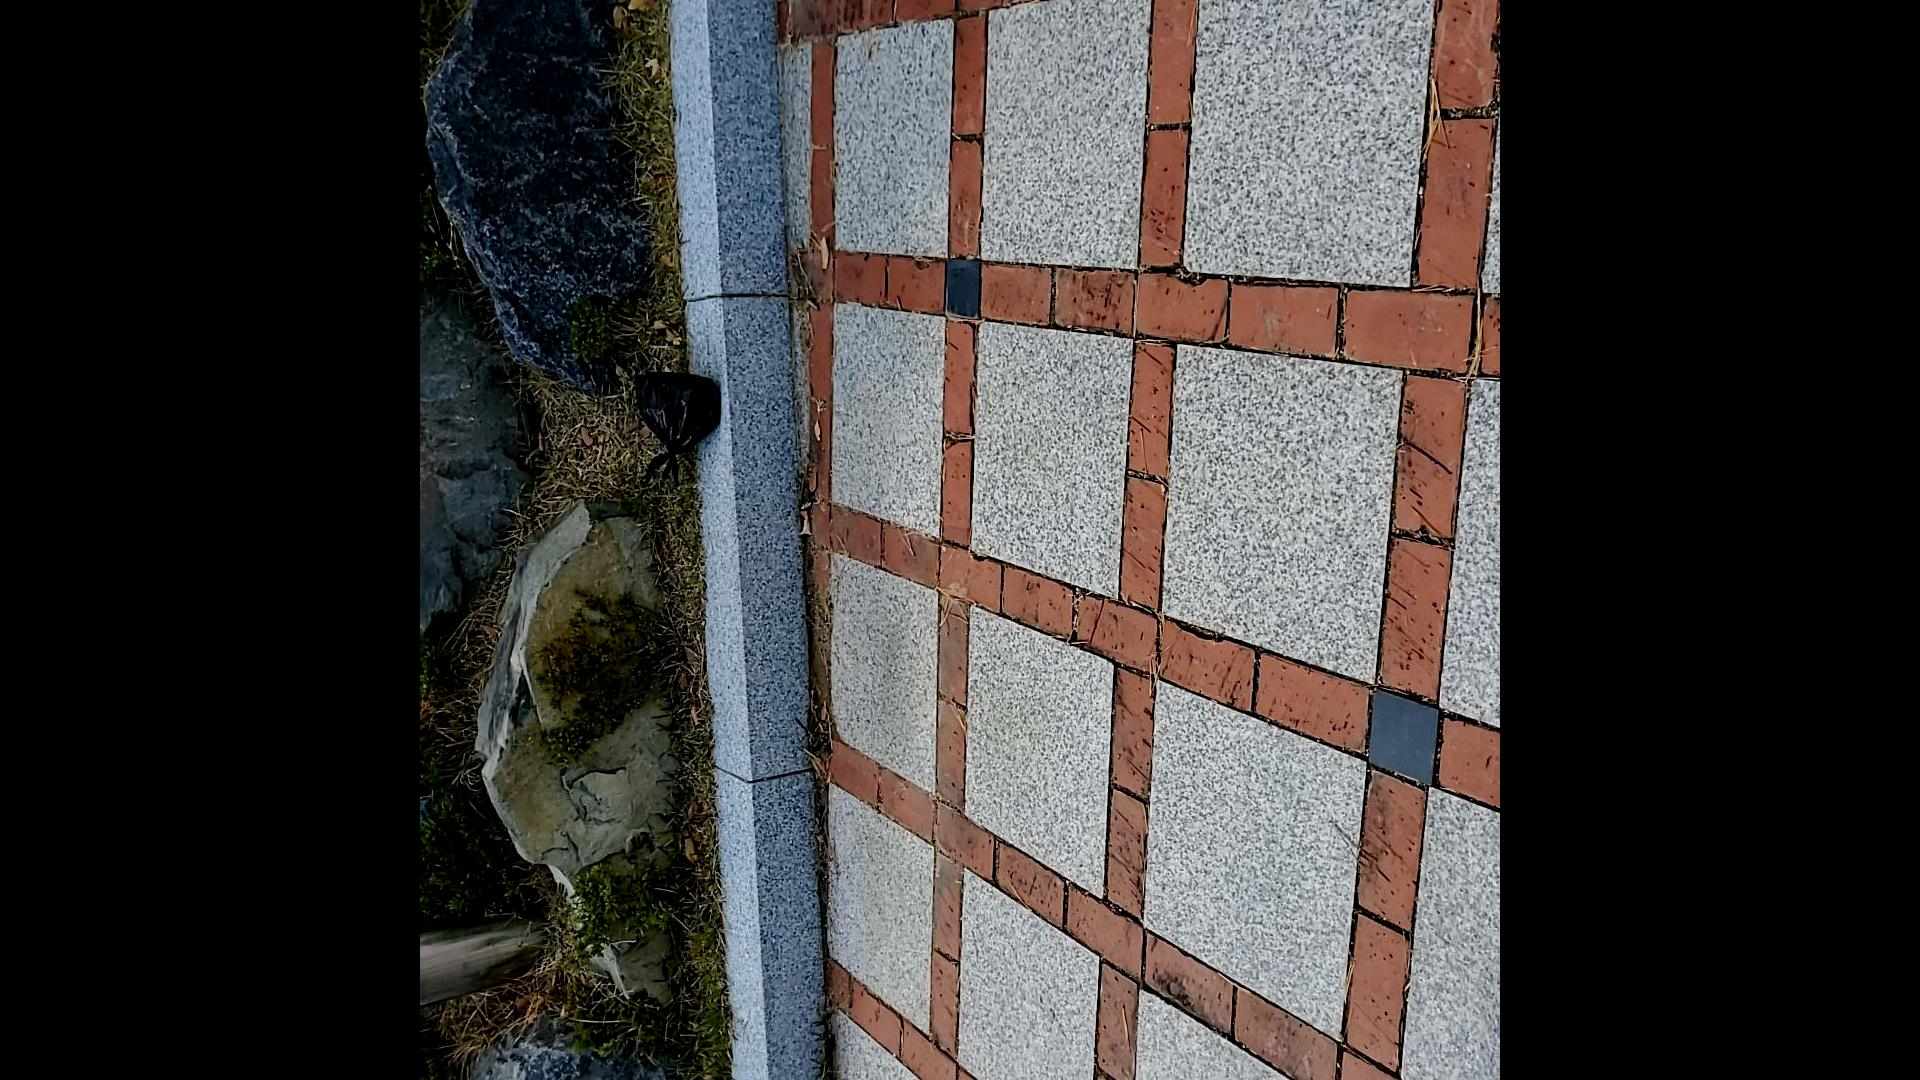black_bag: (618, 360, 733, 495)
